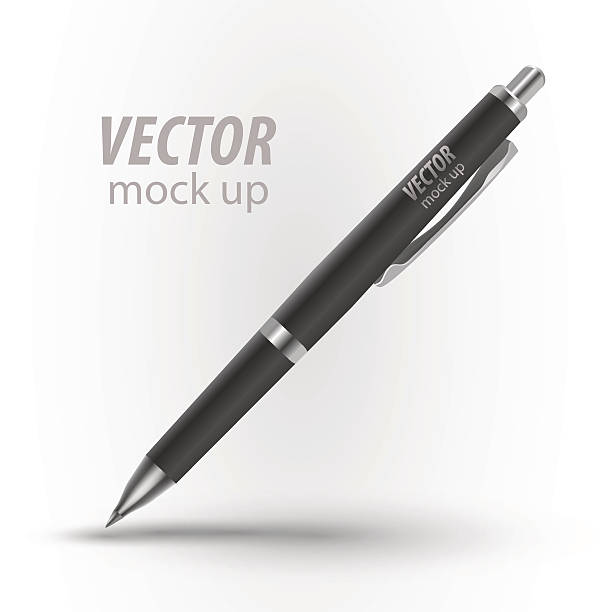pen: (85, 40, 557, 532)
